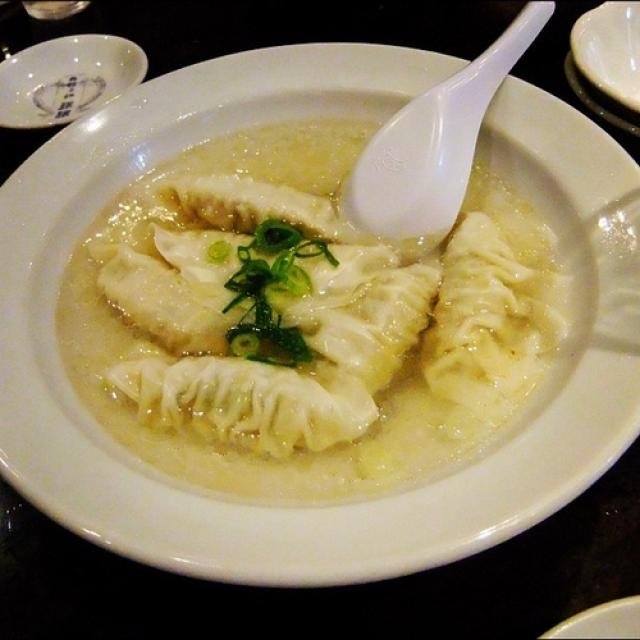带馅早点: (25, 34, 620, 602)
